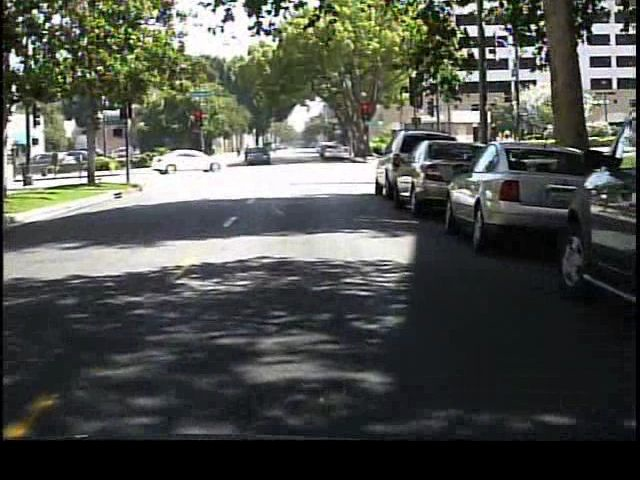person: (238, 143, 252, 170)
